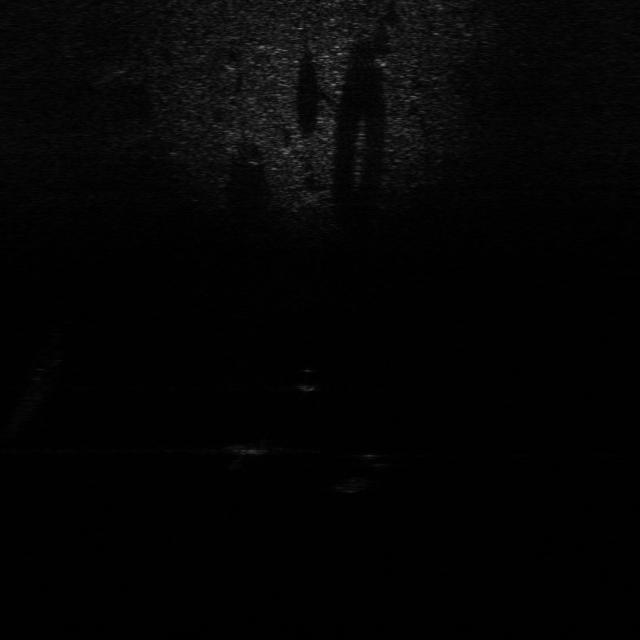ball: (290, 364, 324, 394)
square cage: (224, 434, 290, 458)
tyre: (334, 448, 394, 495)
